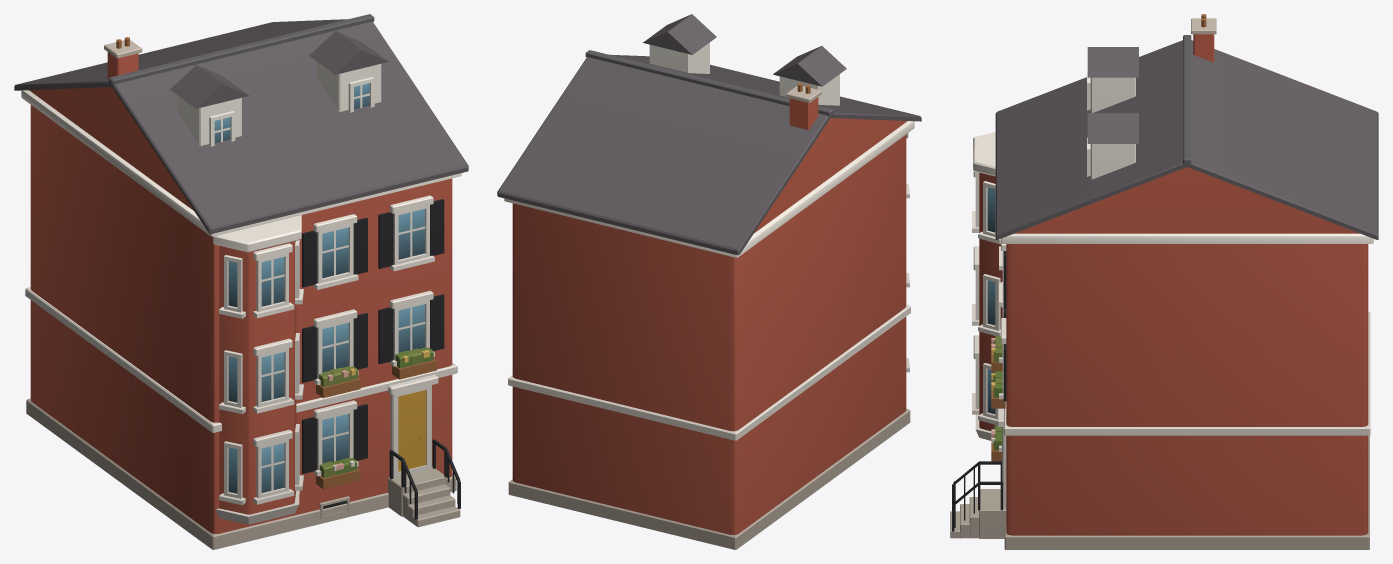
File: lane_w3.glb
3 renders of one model, left to right at view 1: azimuth 30°, elevation 25°; view 2: azimuth 150°, elevation 25°; view 3: azimuth 270°, elevation 25°, orthographic. The views are drawn at different scales.
Parts seen in each view (by area): view 1: lane_w3; view 2: lane_w3; view 3: lane_w3.
Boxes of the visible parts, x1,y1,x2,y2 form: lane_w3: (14,14,468,549); lane_w3: (497,14,921,549); lane_w3: (950,14,1378,549).
Bounding box in the file's own units: 9.8 × 15.45 × 14.21.
1 material, 1 textured.
